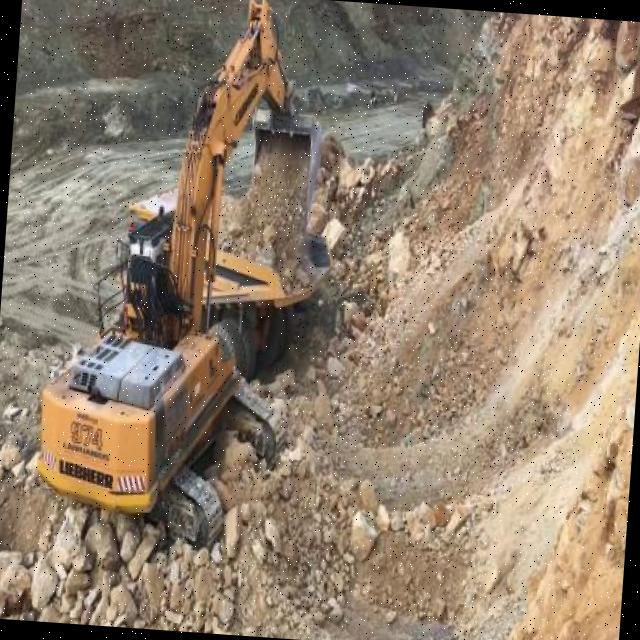Dump Truck: (207, 200, 331, 367)
Excavator: (23, 0, 333, 581)
